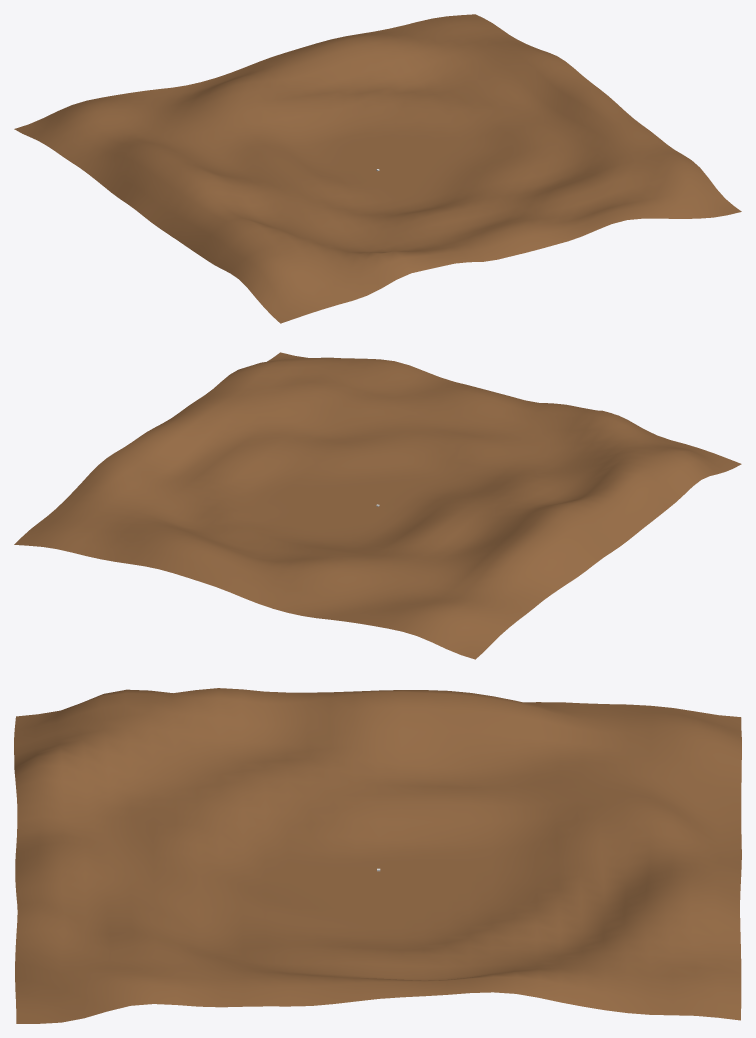
File: prueba.fbx
3 renders of one model, top to bottom at view 1: azimuth 30°, elevation 25°; view 2: azimuth 150°, elevation 25°; view 3: azimuth 270°, elevation 25°, orthographic. The views are drawn at different scales.
Parts seen in each view (by area): view 1: Plane; view 2: Plane; view 3: Plane.
Boxes of the visible parts, box(x1,y1,x2,y2) form: Plane: box(14, 14, 741, 323); Plane: box(14, 352, 741, 659); Plane: box(14, 688, 741, 1023).
Size of the model in its own units: 44159 by 3723 by 43962.
